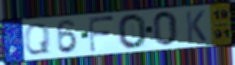0: (152, 10, 181, 47)
6: (56, 18, 79, 55)
F: (87, 15, 117, 54)
K: (184, 10, 208, 44)
O: (116, 12, 149, 50)
Q: (24, 23, 52, 56)
